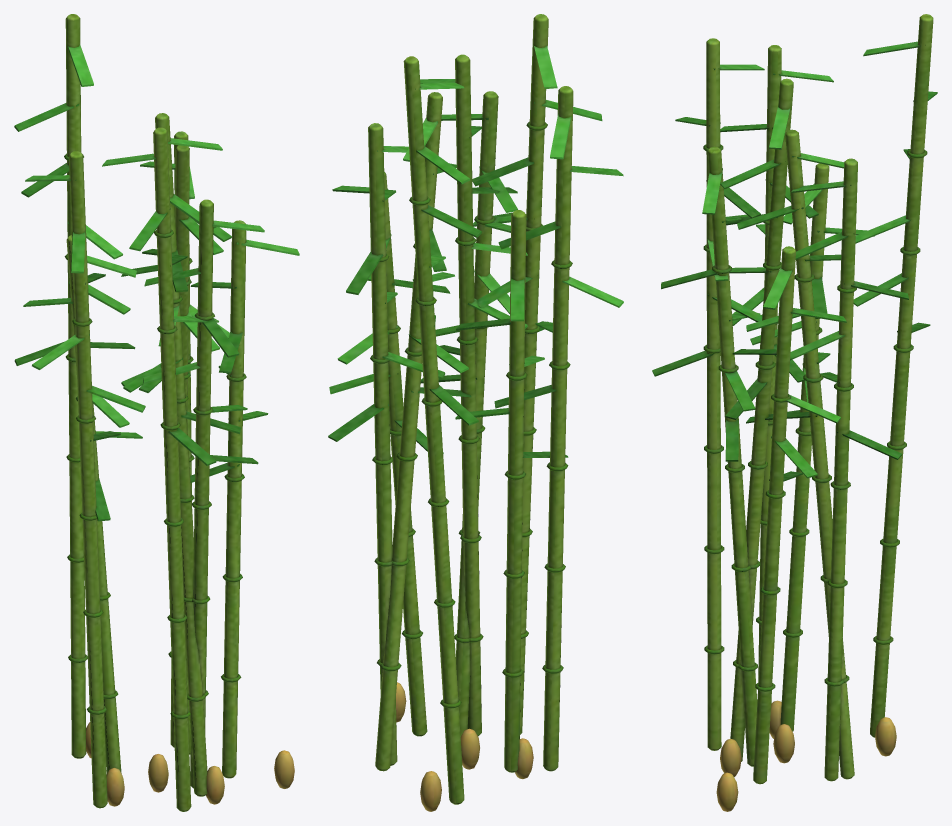
The model's file is bamboo_grove.glb.
3 renders of one model, left to right at view 1: azimuth 30°, elevation 25°; view 2: azimuth 150°, elevation 25°; view 3: azimuth 270°, elevation 25°, orthographic. The views are drawn at different scales.
Parts seen in each view (by area): view 1: bamboo_grove; view 2: bamboo_grove; view 3: bamboo_grove.
Boxes of the visible parts, x1,y1,x2,y2 form: bamboo_grove: [14, 14, 299, 811]; bamboo_grove: [328, 14, 623, 811]; bamboo_grove: [652, 14, 937, 811].
Size of the model in its own units: 0.8683 by 2.25 by 0.7877.
1 material, 1 textured.
